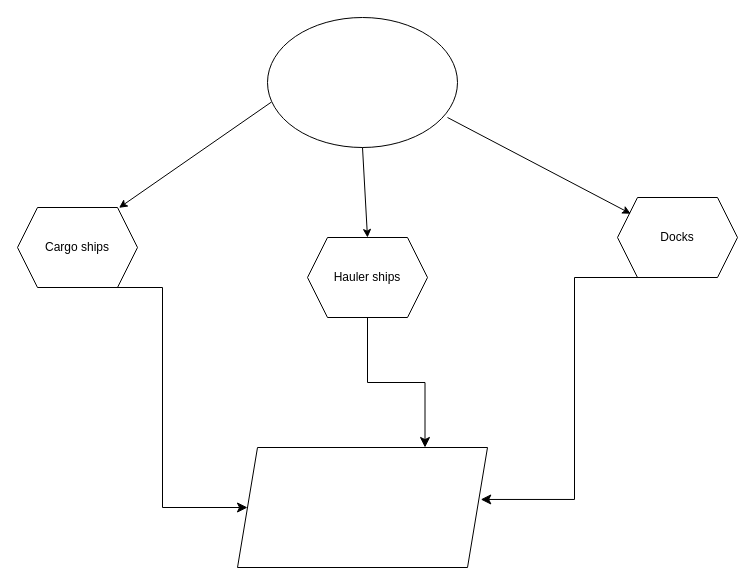
This 755x585 diagram has some shape labels left out. The centre of each missing label's shape, as x and y in pixels:
"Database" belongs at [362,507].
"Main" belongs at [362,82].
